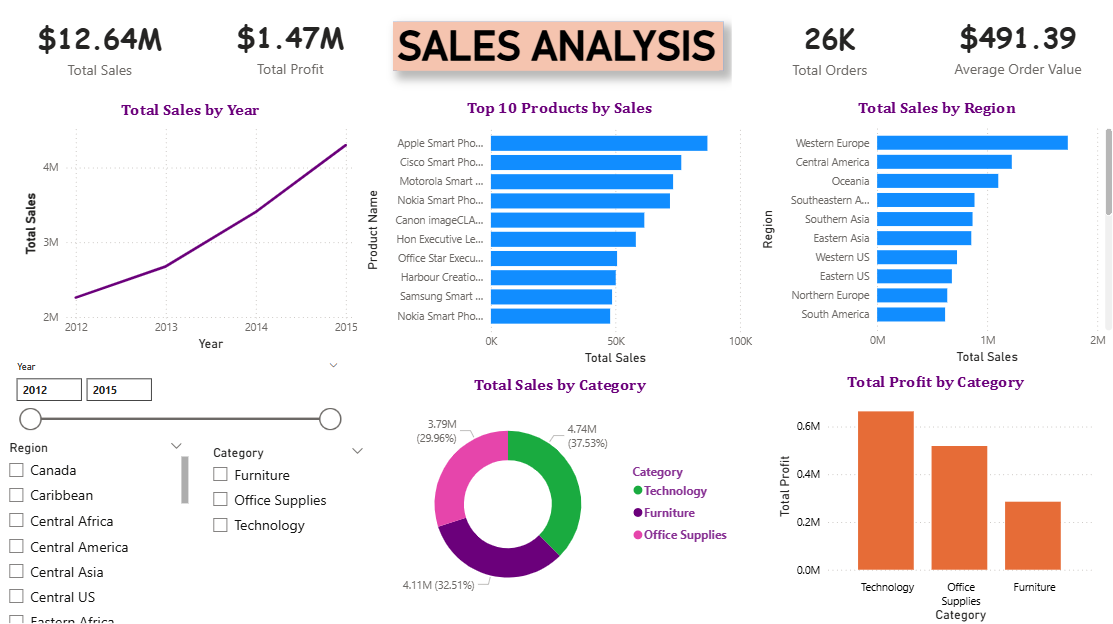

Layout of this report page (visuals, bound fields, positions):
{"tool":"powerbi","page":{"name":"Business Sales Dashboard","canvas":[1280,720],"ordinal":0},"visuals":[{"type":"barChart","title":"Top 10 Products by Sales","fields":{"Category":["cleaned_sales_data.Product Name"],"Y":["cleaned_sales_data.Total Sales"]},"box":[415.7,114.3,451.4,310],"z":0},{"type":"donutChart","fields":{"Category":["cleaned_sales_data.Category"],"Y":["cleaned_sales_data.Total Sales"]},"box":[435.7,430,411.4,275.7],"z":1000},{"type":"barChart","fields":{"Category":["cleaned_sales_data.Region"],"Y":["cleaned_sales_data.Total Sales"]},"box":[867.1,114.3,411.4,308.6],"z":2000},{"type":"textbox","title":"SALES ANALYSIS","box":[451.2,27.5,377.5,56.2],"z":3000},{"type":"lineChart","fields":{"Category":["cleaned_sales_data.Year"],"Y":["cleaned_sales_data.Total Sales"]},"box":[24.3,115.7,391.4,292.9],"z":4000},{"type":"card","fields":{"Values":["cleaned_sales_data.Total Sales"]},"box":[12.9,0,207.1,114.3],"z":5000},{"type":"card","fields":{"Values":["cleaned_sales_data.Total Profit"]},"box":[231.4,0,205.7,112.9],"z":6000},{"type":"card","fields":{"Values":["cleaned_sales_data.Total Orders"]},"box":[838.6,0,224.3,114.3],"z":7000},{"type":"card","fields":{"Values":["cleaned_sales_data.Average Order Value"]},"box":[1052.9,0,225.7,112.9],"z":8000},{"type":"clusteredColumnChart","fields":{"Category":["cleaned_sales_data.Category"],"Y":["cleaned_sales_data.Total Profit"]},"box":[885,427.5,371.2,291.2],"z":9000},{"type":"slicer","fields":{"Values":["cleaned_sales_data.Year"]},"box":[9.1,410.3,392.2,89.3],"z":10000},{"type":"slicer","fields":{"Values":["cleaned_sales_data.Category"]},"box":[233.2,505.7,196.8,118.1],"z":11000},{"type":"slicer","fields":{"Values":["cleaned_sales_data.Region"]},"box":[0,499.7,222.6,219.6],"z":12000}]}

Visuals, with their boxes in screenshot pixels (x1, y1, x2, y2), scaled from the page's 1280x720 canvas onto the 1113x624 screenshot:
"Top 10 Products by Sales" barChart: detection(361, 99, 754, 368)
donutChart - cleaned_sales_data.Category x cleaned_sales_data.Total Sales: detection(379, 373, 737, 612)
barChart - cleaned_sales_data.Region x cleaned_sales_data.Total Sales: detection(754, 99, 1112, 367)
"SALES ANALYSIS" textbox: detection(392, 24, 721, 73)
lineChart - cleaned_sales_data.Year x cleaned_sales_data.Total Sales: detection(21, 100, 361, 354)
card - cleaned_sales_data.Total Sales: detection(11, 0, 191, 99)
card - cleaned_sales_data.Total Profit: detection(201, 0, 380, 98)
card - cleaned_sales_data.Total Orders: detection(729, 0, 924, 99)
card - cleaned_sales_data.Average Order Value: detection(916, 0, 1112, 98)
clusteredColumnChart - cleaned_sales_data.Category x cleaned_sales_data.Total Profit: detection(770, 370, 1092, 623)
slicer - cleaned_sales_data.Year: detection(8, 356, 349, 433)
slicer - cleaned_sales_data.Category: detection(203, 438, 374, 541)
slicer - cleaned_sales_data.Region: detection(0, 433, 194, 623)
